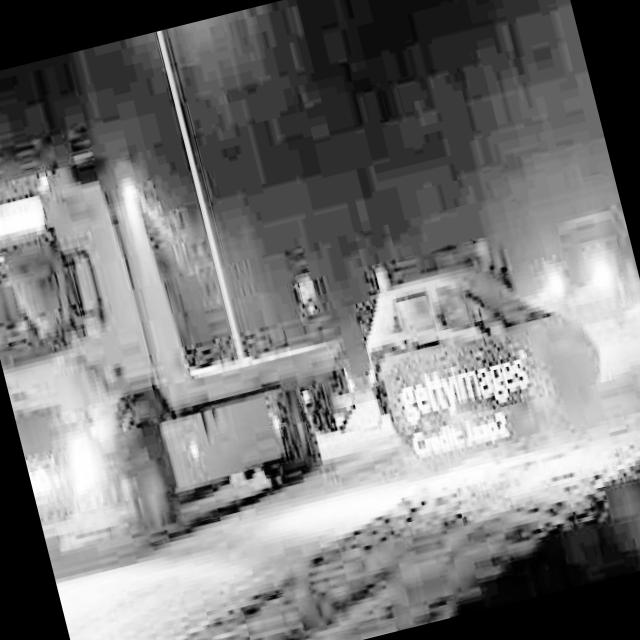Truck: (0, 98, 379, 571)
